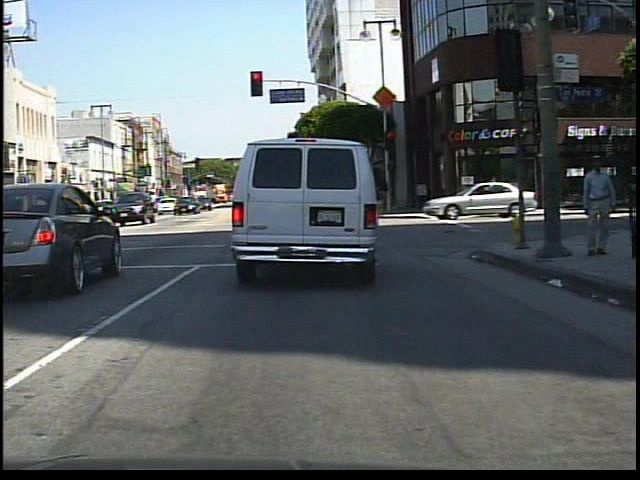person: (579, 149, 622, 259)
